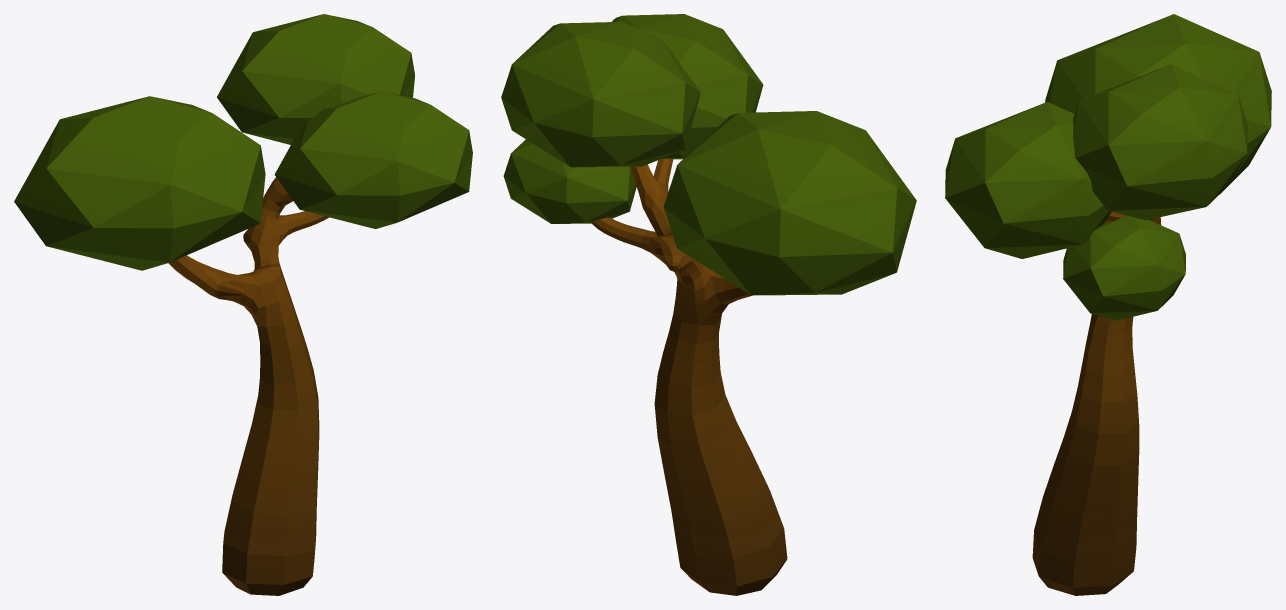
Rendered from arbol6.fbx.
3 views of the same model, side by side, from view 1: azimuth 30°, elevation 25°; view 2: azimuth 150°, elevation 25°; view 3: azimuth 270°, elevation 25° (orthographic). The views are drawn at different scales.
Visible parts, largest first — view 1: Plane.005; view 2: Plane.005; view 3: Plane.005.
Part boxes in pixels (x1,y1,x2,y2): Plane.005: [14, 14, 472, 595]; Plane.005: [501, 14, 916, 595]; Plane.005: [945, 14, 1271, 595].
Bounding box in the file's own units: 308 × 395 × 212.
